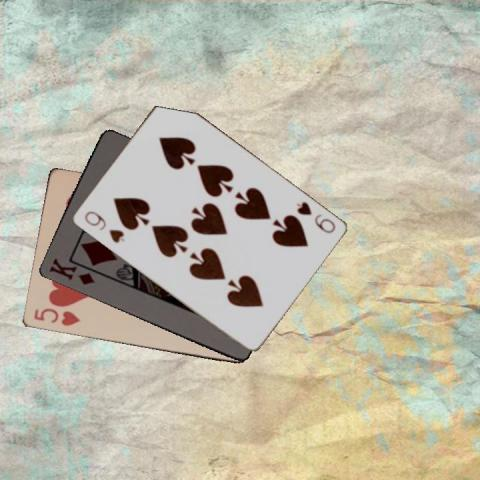5h: (31, 305, 81, 328)
9s: (81, 207, 126, 245), (292, 198, 336, 235)
Kd: (46, 255, 96, 287)
